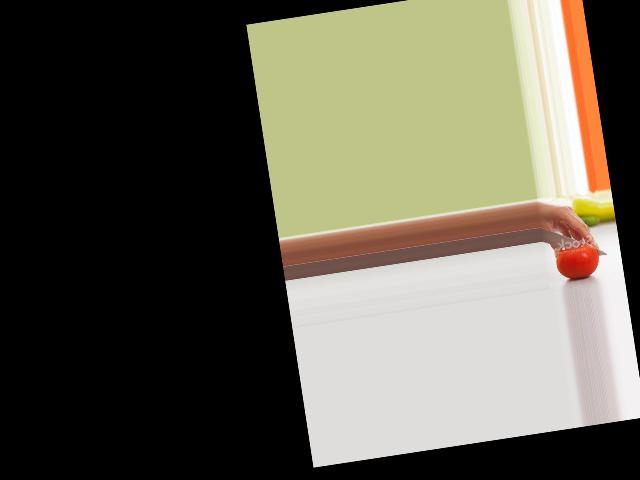tomato: (553, 242, 601, 282)
